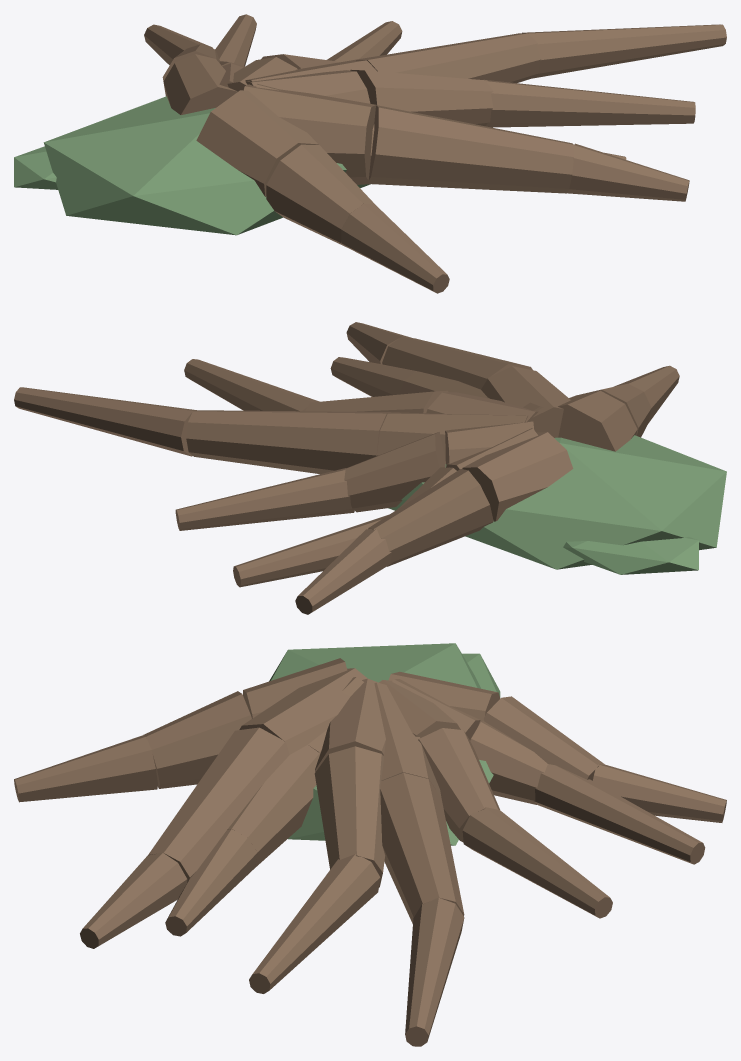
File: myb_forest_root_cluster_ground_a.fbx
3 renders of one model, top to bottom at view 1: azimuth 30°, elevation 25°; view 2: azimuth 150°, elevation 25°; view 3: azimuth 270°, elevation 25°, orthographic. The views are drawn at different scales.
Visible parts, largest first — view 1: myb_forest_root_cluster_ground_a; view 2: myb_forest_root_cluster_ground_a; view 3: myb_forest_root_cluster_ground_a.
Part boxes in pixels (x1,y1,x2,y2): myb_forest_root_cluster_ground_a: (14,14,726,293); myb_forest_root_cluster_ground_a: (14,322,726,614); myb_forest_root_cluster_ground_a: (14,643,726,1046).
Bounding box in the file's own units: 2.53 × 0.4191 × 2.07.
